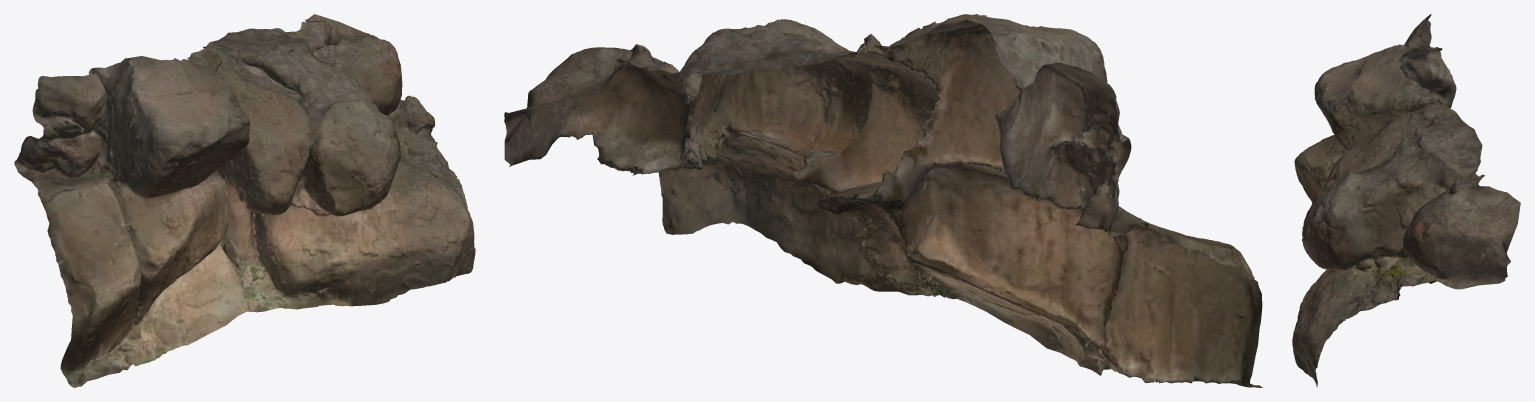
The model's file is cliff_chunk_low.glb.
The picture shows the model from 3 angles, left to right: view 1: azimuth 30°, elevation 25°; view 2: azimuth 150°, elevation 25°; view 3: azimuth 270°, elevation 25°; orthographic projection. The views are drawn at different scales.
Parts seen in each view (by area): view 1: drone_rock_01; view 2: drone_rock_01; view 3: drone_rock_01.
Boxes of the visible parts, left/top/right/bottom form: drone_rock_01: left=14, top=14, right=475, bottom=387; drone_rock_01: left=504, top=14, right=1263, bottom=387; drone_rock_01: left=1292, top=14, right=1520, bottom=387.
Size of the model in its own units: 8.28 by 4.96 by 4.39.
Materials: 1 (1 with a texture image).
